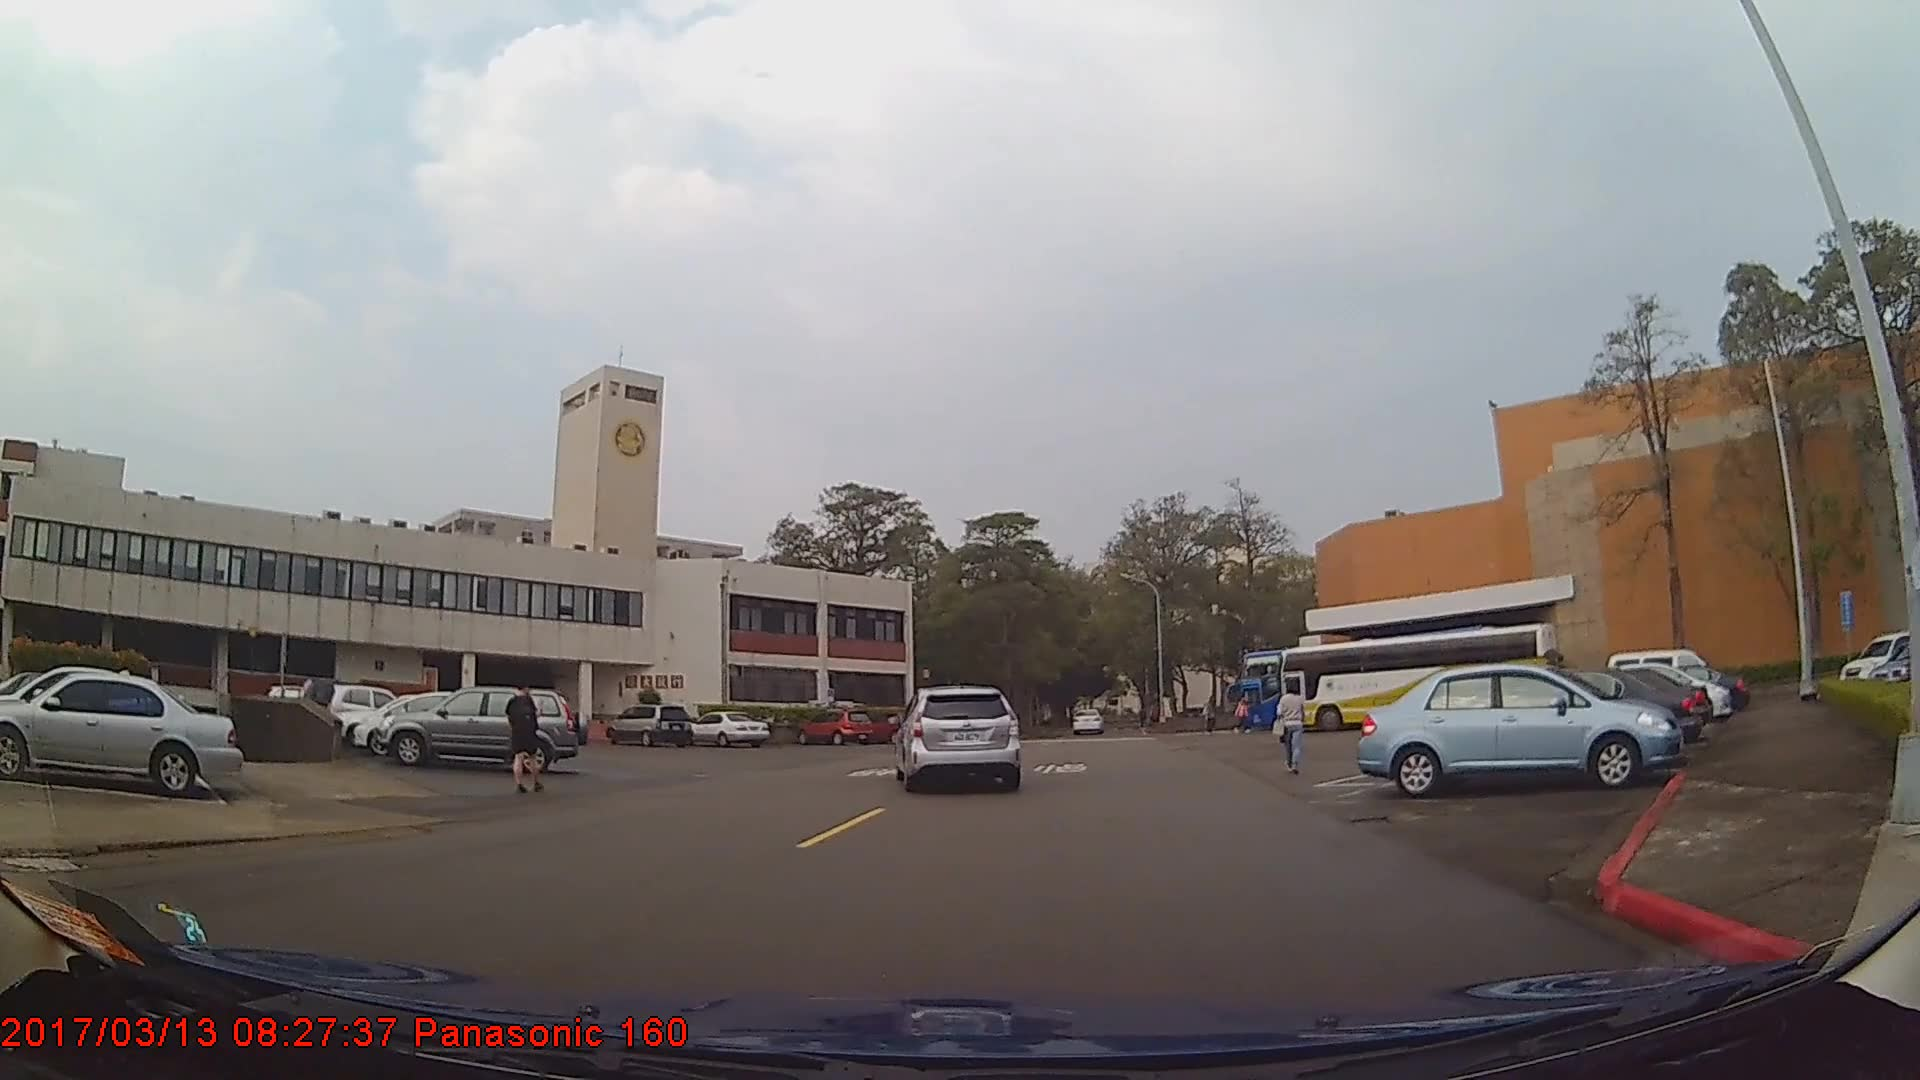pedestrian: (505, 680, 545, 793), (1276, 682, 1307, 773)
vehicle: (1356, 659, 1685, 793), (1276, 619, 1558, 736), (0, 667, 245, 793), (1435, 667, 1701, 756), (1237, 644, 1458, 733), (370, 685, 590, 771), (898, 682, 1017, 794), (351, 690, 514, 757), (327, 683, 419, 736), (602, 701, 692, 747), (799, 705, 875, 744), (686, 709, 769, 744), (1068, 702, 1101, 731)
